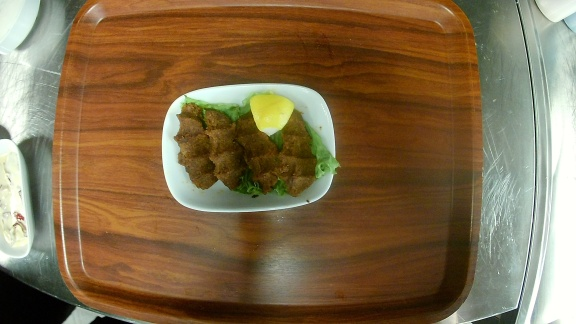cigkofte: (162, 83, 337, 212)
